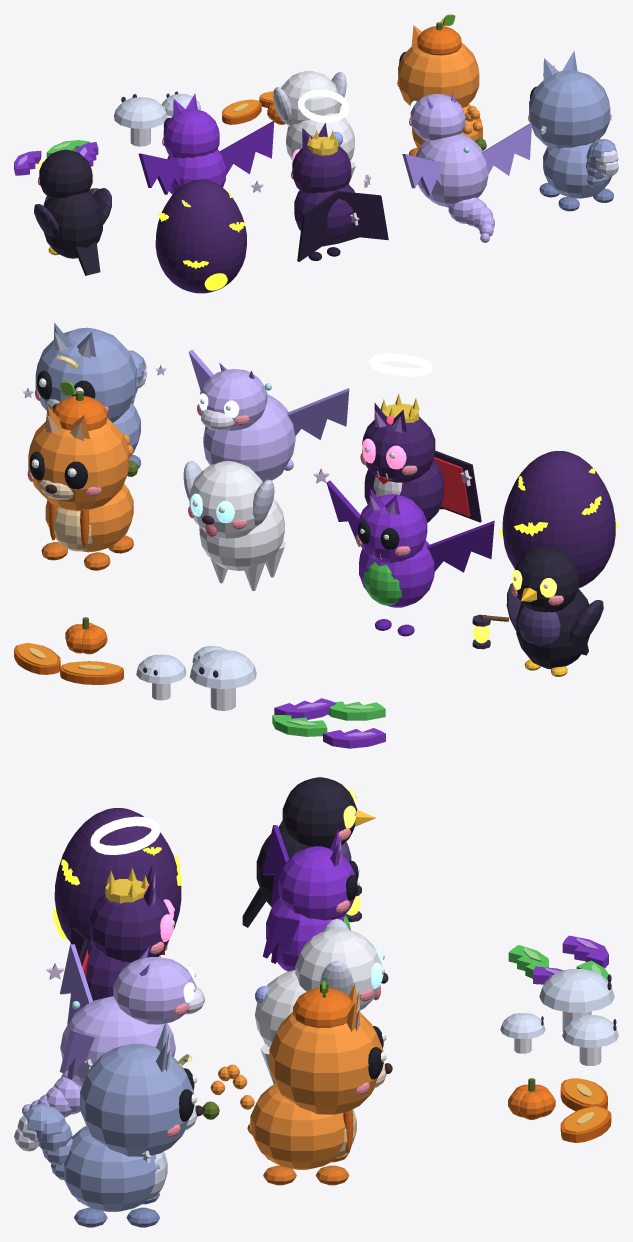
File: HauntedCastle.fbx
3 views of the same model, one above another, from view 1: azimuth 30°, elevation 25°; view 2: azimuth 150°, elevation 25°; view 3: azimuth 270°, elevation 25° (orthographic). The views are drawn at different scales.
Parts seen in each view (by area): view 1: Pet_9AA8D8, Egg_4B2A6E, Pet_C8B8FF, Pet_2A2438, Pet_FF9A3E, Pet_4A2A6E, Pet_8A3AD8, Pet_2A1A3A, Pet_F4F6FF, Pet_6A2AB0, Pet_A890F0, Top_DDE8FF (+11 smaller); view 2: Egg_4B2A6E, Pet_FF9A3E, Pet_F4F6FF, Pet_C8B8FF, Pet_9AA8D8, Pet_8A3AD8, Pet_2A2438, Pet_4A2A6E, Top_DDE8FF, Pet_6A2AB0, Pet_A890F0, Top_8A3AD8 (+19 smaller); view 3: Pet_9AA8D8, Pet_FF9A3E, Pet_C8B8FF, Egg_4B2A6E, Pet_8A3AD8, Pet_F4F6FF, Pet_4A2A6E, Pet_2A2438, Top_DDE8FF, Pet_A890F0, Pet_6A2AB0, Pet_F07A22 (+13 smaller).
Part boxes in pixels (box(x1,y1,x2,y2)): Pet_9AA8D8: box(529, 50, 617, 198); Egg_4B2A6E: box(155, 179, 246, 293); Pet_C8B8FF: box(410, 94, 494, 242); Pet_2A2438: box(39, 149, 102, 275); Pet_FF9A3E: box(398, 18, 482, 149); Pet_4A2A6E: box(292, 123, 354, 237); Pet_8A3AD8: box(163, 93, 225, 194); Pet_2A1A3A: box(297, 191, 388, 261); Pet_F4F6FF: box(281, 71, 355, 183); Pet_6A2AB0: box(138, 120, 274, 194); Pet_A890F0: box(402, 122, 531, 195); Top_DDE8FF: box(114, 93, 201, 128); Egg_4B2A6E: box(502, 451, 615, 588); Pet_FF9A3E: box(28, 406, 133, 552); Pet_F4F6FF: box(189, 461, 285, 590); Pet_C8B8FF: box(199, 369, 295, 482); Pet_9AA8D8: box(35, 323, 145, 452); Pet_8A3AD8: box(357, 488, 434, 607); Pet_2A2438: box(514, 546, 589, 669); Pet_4A2A6E: box(362, 403, 443, 522); Top_DDE8FF: box(136, 645, 256, 689); Pet_6A2AB0: box(326, 480, 494, 636); Pet_A890F0: box(188, 349, 349, 439); Top_8A3AD8: box(274, 698, 385, 748); Pet_9AA8D8: box(24, 1022, 193, 1211); Pet_FF9A3E: box(210, 983, 383, 1169); Pet_C8B8FF: box(22, 957, 196, 1117); Egg_4B2A6E: box(54, 808, 181, 942); Pet_8A3AD8: box(266, 829, 355, 971); Pet_F4F6FF: box(254, 928, 382, 1084); Pet_4A2A6E: box(86, 864, 169, 1000); Pet_2A2438: box(242, 777, 357, 927); Top_DDE8FF: box(500, 969, 618, 1047); Pet_A890F0: box(60, 944, 94, 1079); Pet_6A2AB0: box(262, 825, 300, 963); Pet_F07A22: box(293, 987, 353, 1027).
Size of the model in its own units: 7.9 by 2.35 by 5.75.
